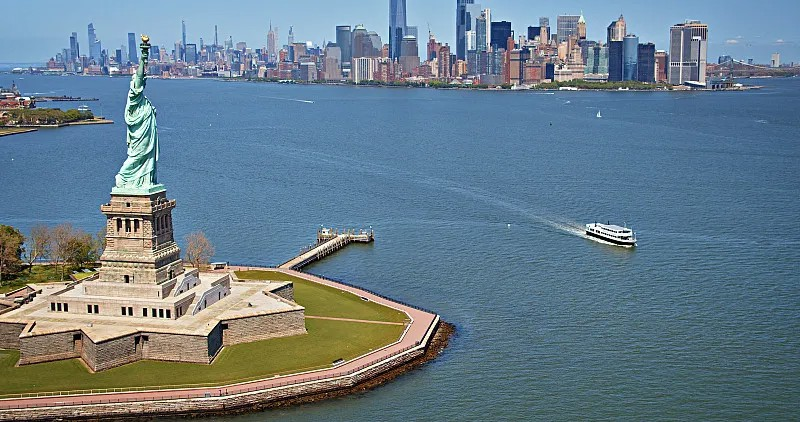SL: (98, 35, 184, 285)
